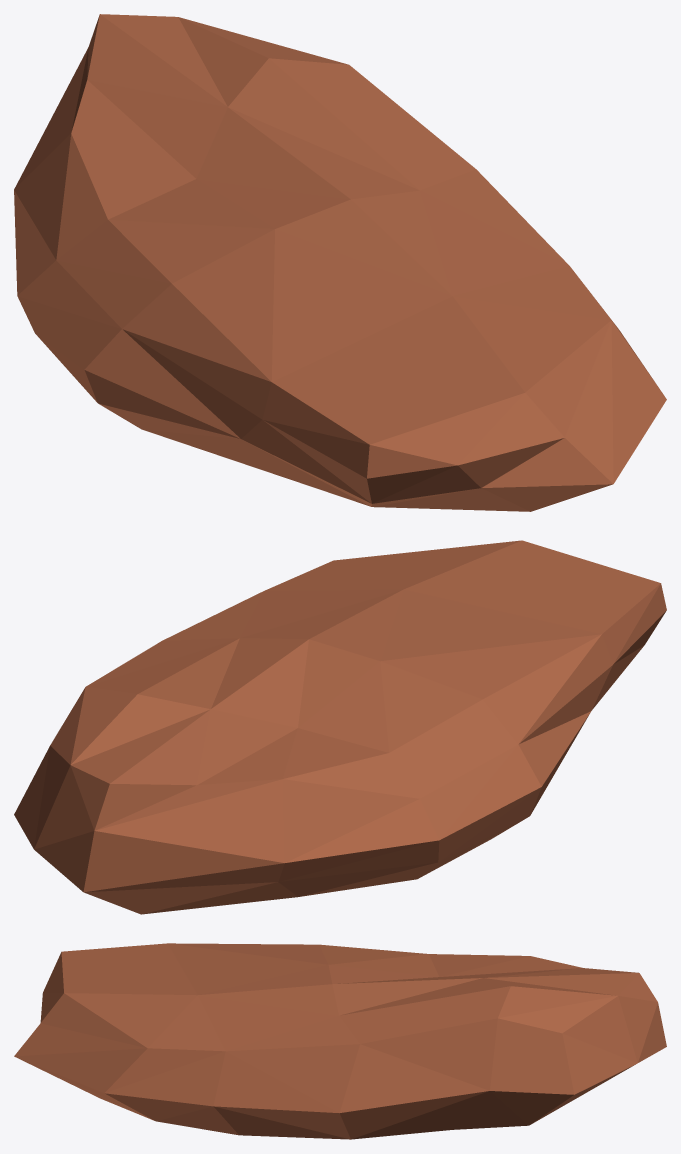
Rendered from large_rock2.glb.
The picture shows the model from 3 angles, top to bottom: view 1: azimuth 30°, elevation 25°; view 2: azimuth 150°, elevation 25°; view 3: azimuth 270°, elevation 25°; orthographic projection. The views are drawn at different scales.
Visible parts, largest first — view 1: large_rock2; view 2: large_rock2; view 3: large_rock2.
Boxes of the visible parts, x1,y1,x2,y2 form: large_rock2: (14, 14, 666, 511); large_rock2: (14, 540, 666, 914); large_rock2: (14, 943, 666, 1139).
Bounding box in the file's own units: 3.36 × 1.6 × 6.39.
